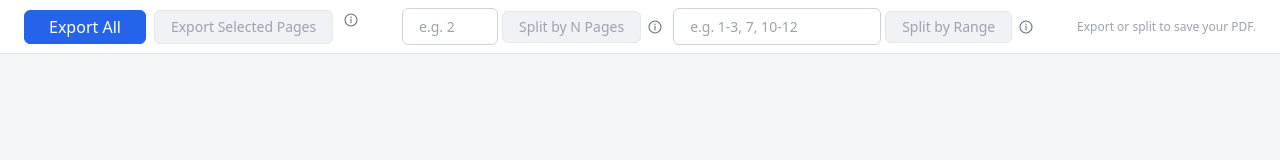
Scenario: Toolbar — Split by range › clears the inline error and re-enables the button once corrected
The image size is (1280, 160).
In the field named "Split range": (777, 26) [673,8,881,45], type "9"
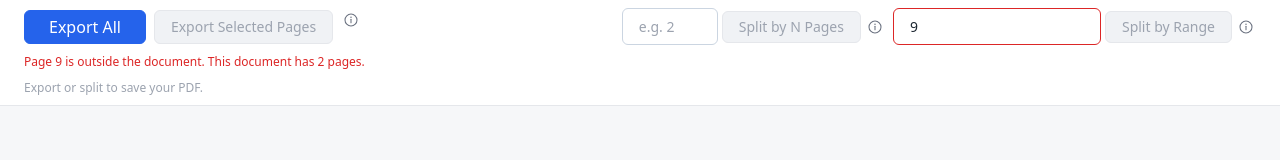
Expected: the button "Split by Range" is disabled, [1105,10,1232,42]
Result: the message "Page 9 is outside the document. This document has 2 pages." is shown at [24,53,365,70]
Replace the text in the field named "Split range" with "1-2": (997, 26) [893,8,1101,45]
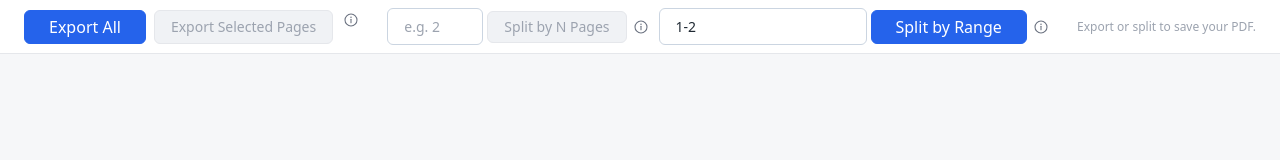
Result: the message "Page 9 is outside the document. This document has 2 pages." is gone
Result: the button "Split by Range" is enabled at [870,10,1027,44]
